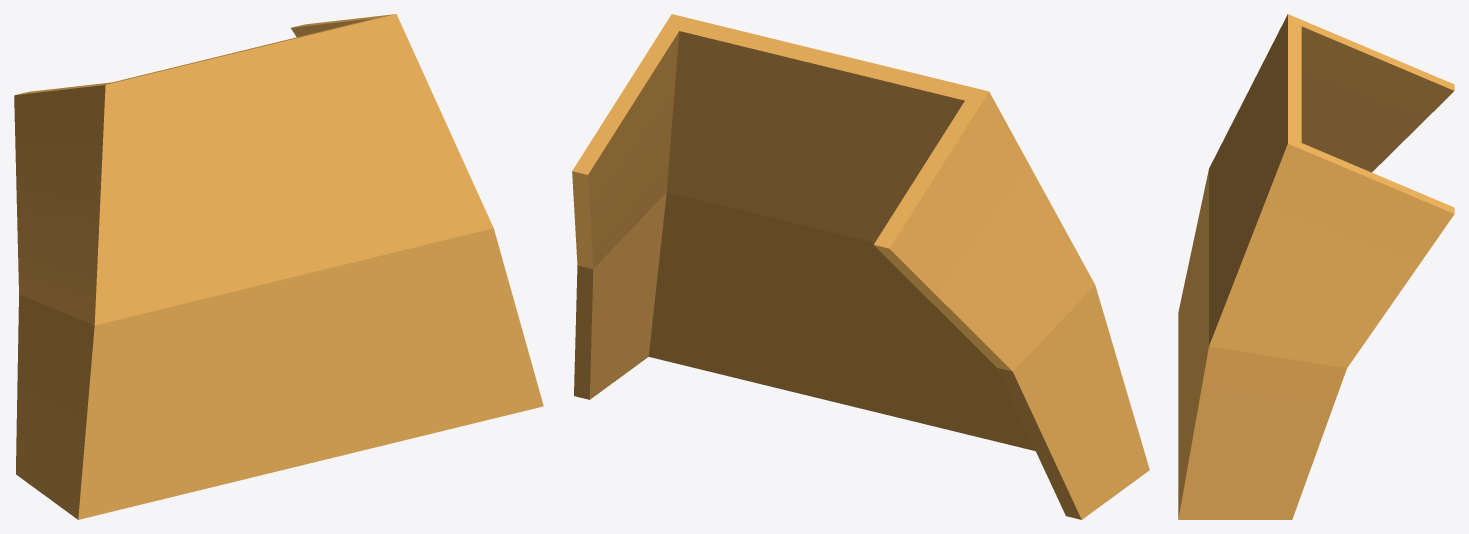
The model's file is scoop.glb.
The picture shows the model from 3 angles, left to right: view 1: azimuth 30°, elevation 25°; view 2: azimuth 150°, elevation 25°; view 3: azimuth 270°, elevation 25°; orthographic projection. The views are drawn at different scales.
Visible parts, largest first — view 1: REVIEW_EXPORT_scoop; view 2: REVIEW_EXPORT_scoop; view 3: REVIEW_EXPORT_scoop.
Boxes of the visible parts, x1=… form: REVIEW_EXPORT_scoop: x1=14, y1=14, x2=543, y2=519; REVIEW_EXPORT_scoop: x1=572, y1=14, x2=1149, y2=519; REVIEW_EXPORT_scoop: x1=1178, y1=14, x2=1454, y2=519.
Bounding box in the file's own units: 0.112 × 0.085 × 0.0631.
